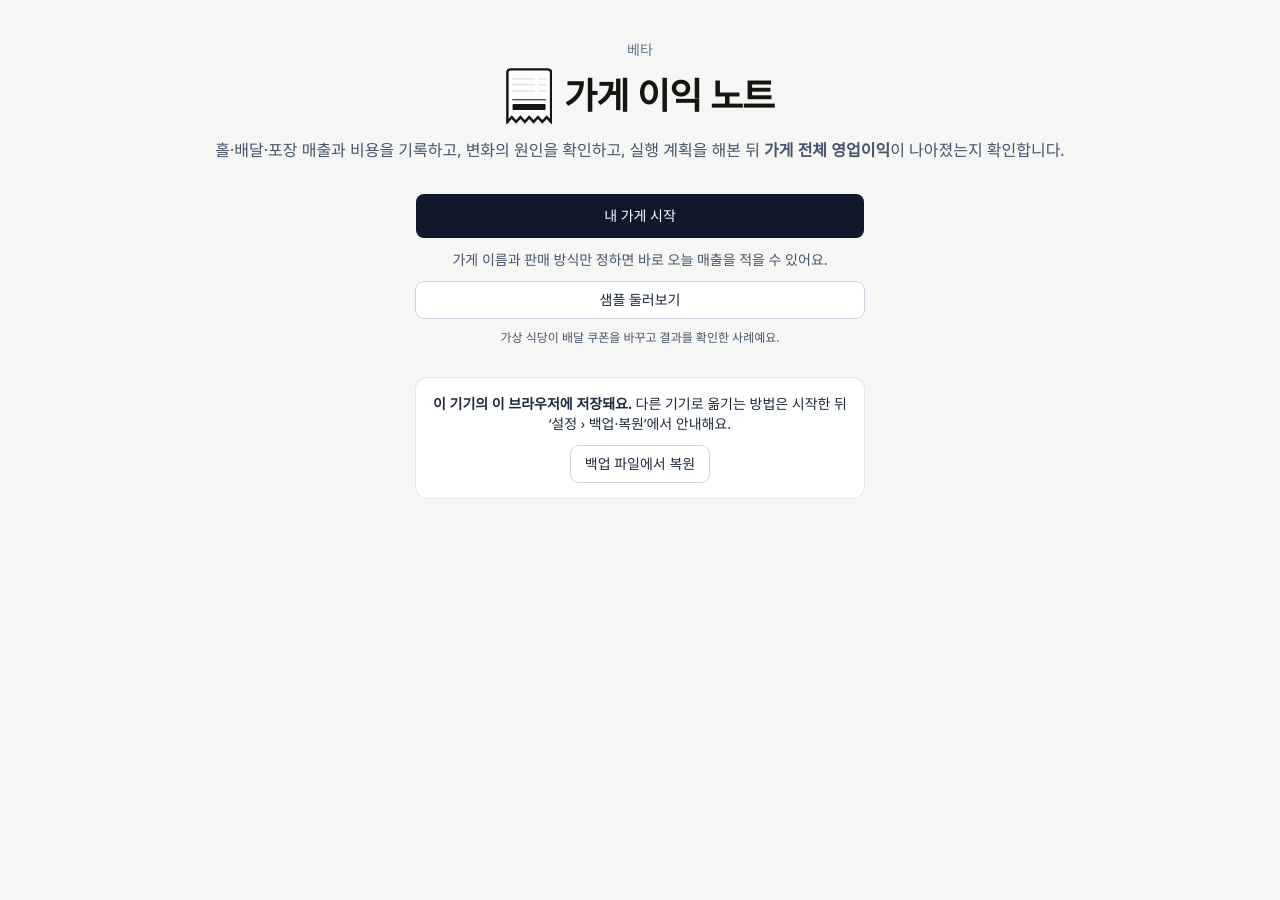
Scenario: 앱 스모크 테스트 › 빈 값 저장 시 필드 옆 오류와 하단 안내를 보여주고, 기존 기록과 같은 날짜·경로면 수정을 안내한다
Later steps or results of the test are not shown.
Click the button "샘플 둘러보기" at (640, 300), box left=416, top=282, right=864, bottom=318
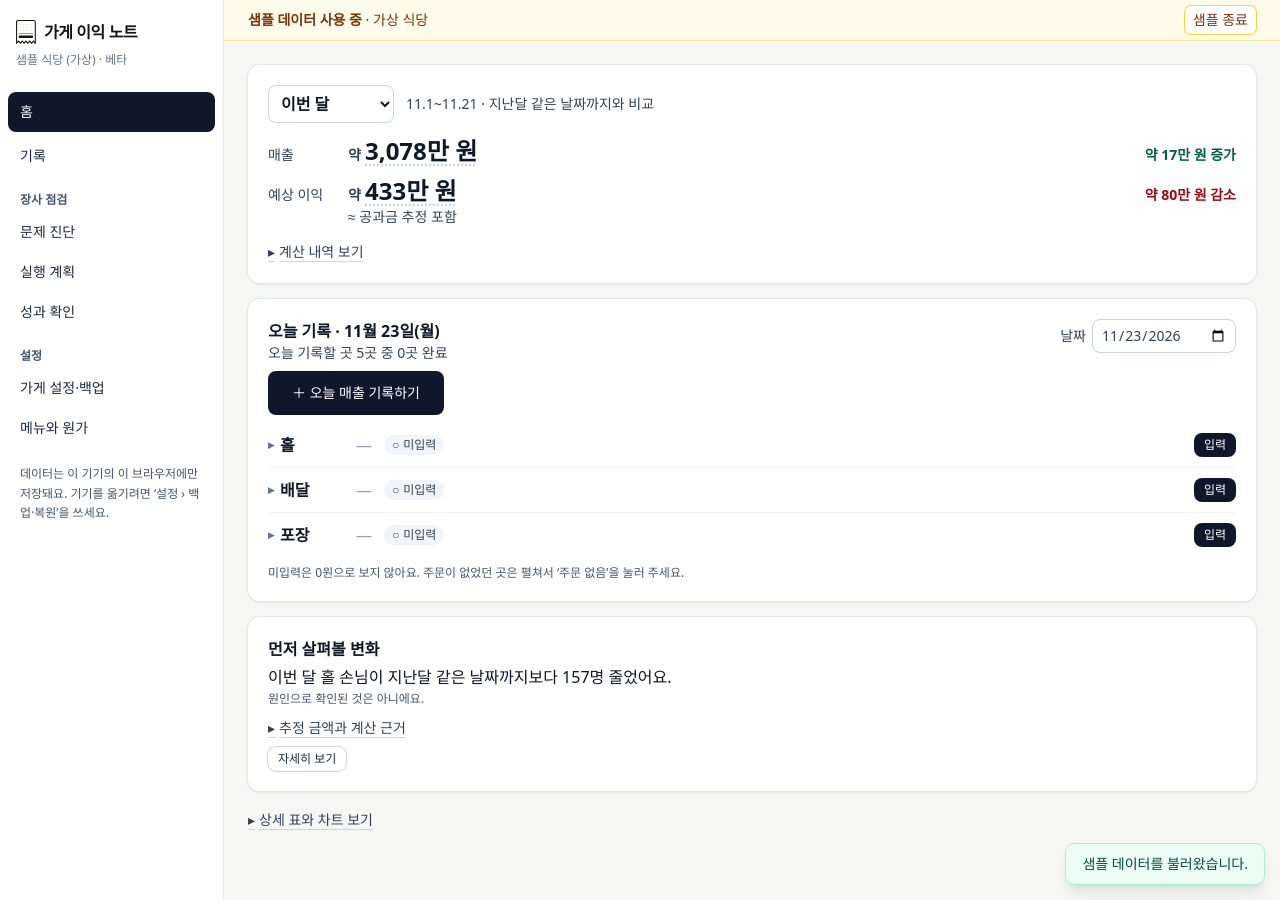
Click the button "＋ 오늘 매출 기록하기" at (356, 393), box left=268, top=371, right=444, bottom=415
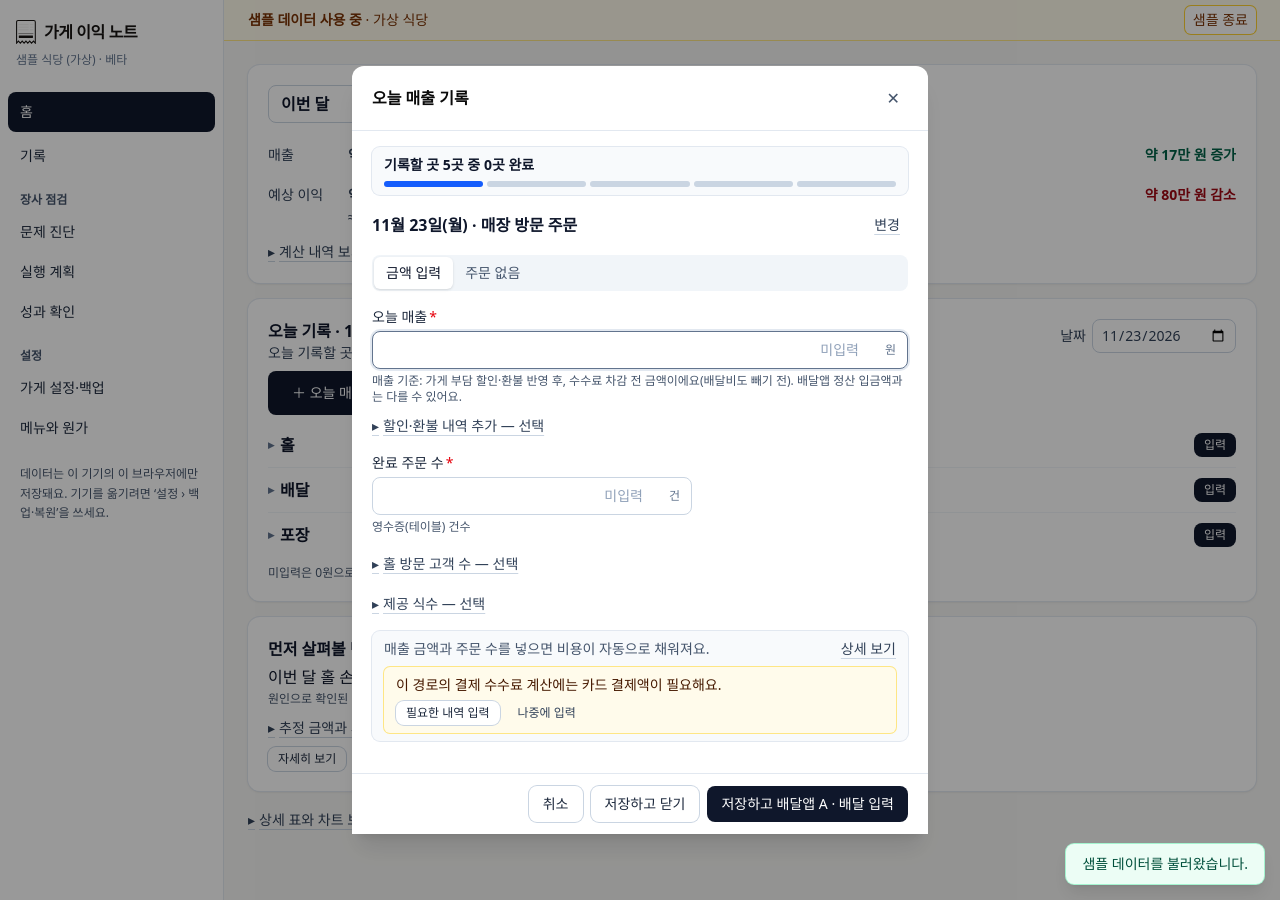
Click the button "저장하고 닫기" at (645, 804), box left=590, top=786, right=699, bottom=822
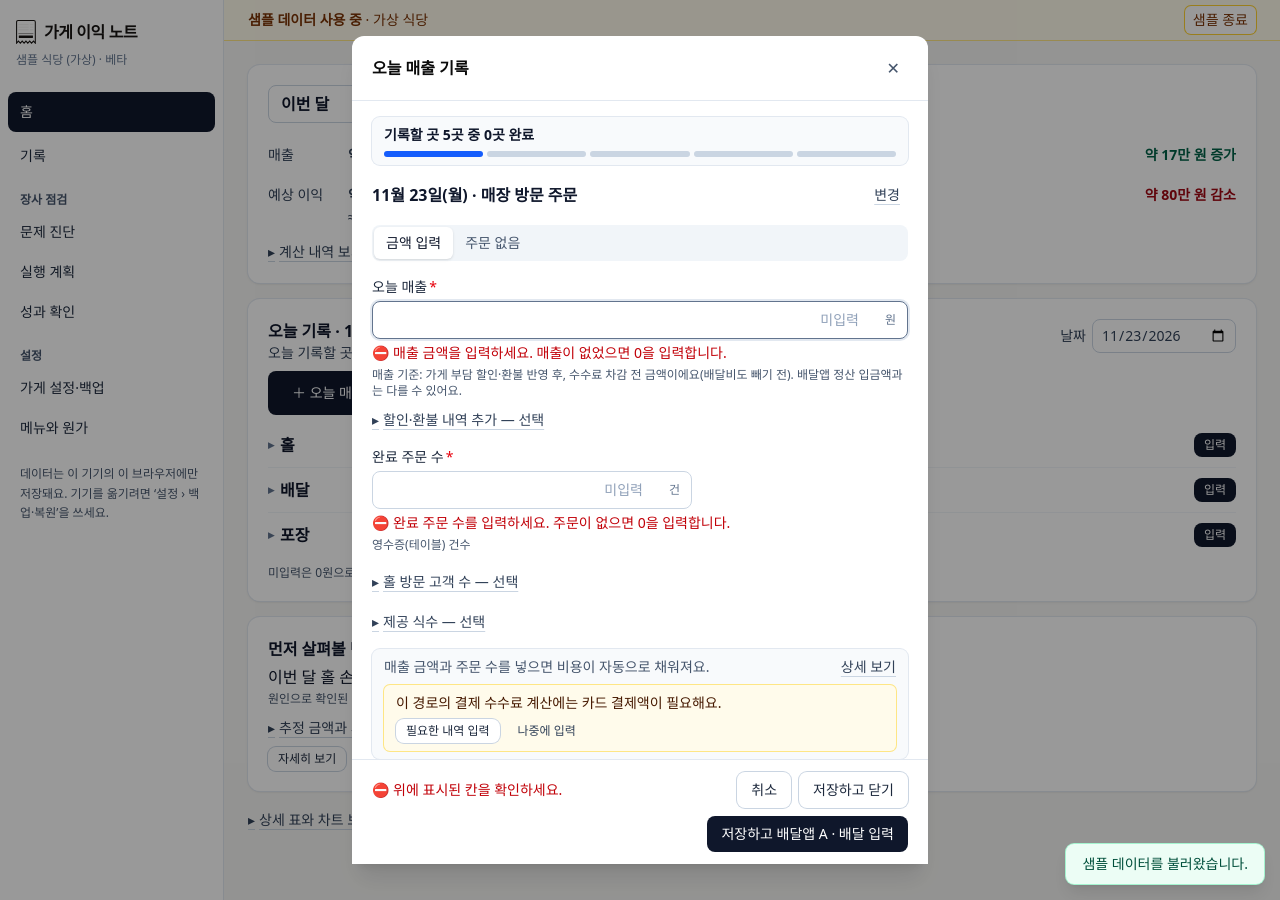
Expected: the dialog shows "매출 금액을 입력하세요", left=393, top=343, right=727, bottom=362
Expected: the dialog shows "완료 주문 수를 입력하세요", left=393, top=513, right=730, bottom=532
Expected: the dialog shows "위에 표시된 칸을 확인하세요", left=372, top=780, right=562, bottom=799
